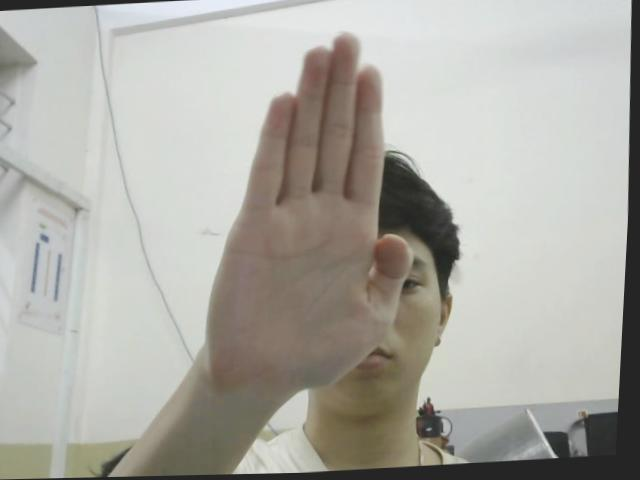B: (196, 29, 430, 398)
